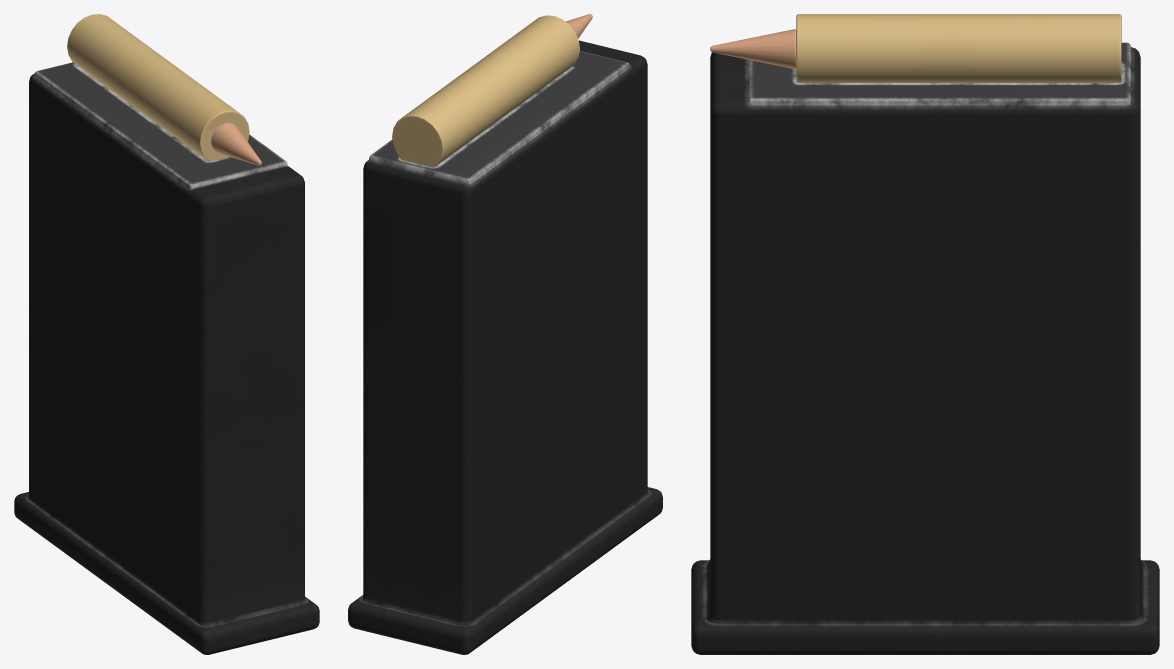
Rendered from mag_lr10.glb.
3 renders of one model, left to right at view 1: azimuth 30°, elevation 25°; view 2: azimuth 150°, elevation 25°; view 3: azimuth 270°, elevation 25°, orthographic. The views are drawn at different scales.
Parts seen in each view (by area): view 1: body; view 2: body; view 3: body.
Boxes of the visible parts, left/top/right/bottom form: body: left=14, top=14, right=319, bottom=654; body: left=348, top=14, right=662, bottom=654; body: left=691, top=14, right=1159, bottom=654.
Bounding box in the file's own units: 0.035 × 0.1405 × 0.098.
1 material, 1 textured.
